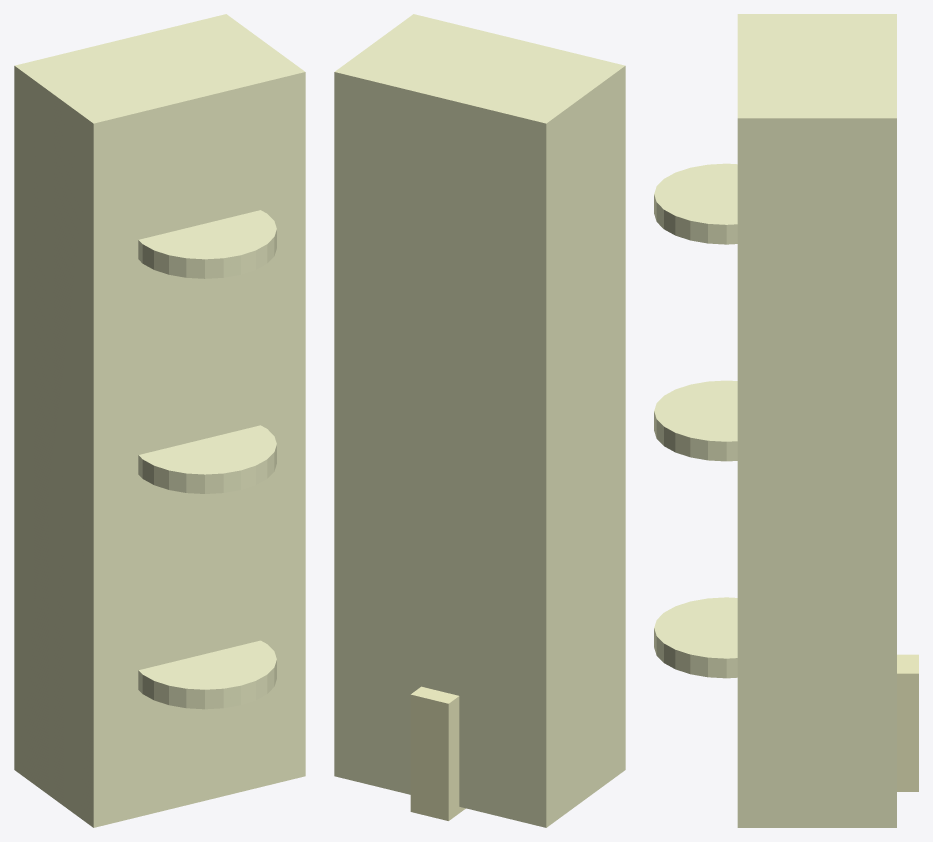
File: signal_vehicle_vertical_3_aspect.glb
The picture shows the model from 3 angles, left to right: view 1: azimuth 30°, elevation 25°; view 2: azimuth 150°, elevation 25°; view 3: azimuth 270°, elevation 25°; orthographic projection.
Parts seen in each view (by area): view 1: housing, lens_yellow, lens_red, lens_green; view 2: housing, bracket; view 3: housing, lens_red, lens_green, lens_yellow, bracket.
Boxes of the visible parts, bbox=[...] form: housing: bbox=[14, 14, 305, 827]; lens_yellow: bbox=[138, 425, 276, 493]; lens_red: bbox=[138, 210, 276, 278]; lens_green: bbox=[138, 640, 276, 709]; housing: bbox=[334, 14, 625, 827]; bracket: bbox=[410, 686, 465, 820]; housing: bbox=[737, 14, 896, 827]; lens_red: bbox=[654, 163, 737, 244]; lens_green: bbox=[654, 597, 737, 678]; lens_yellow: bbox=[654, 380, 737, 461]; bracket: bbox=[897, 654, 918, 791].
Size of the model in its own units: 0.34 by 1.09 by 0.365.
